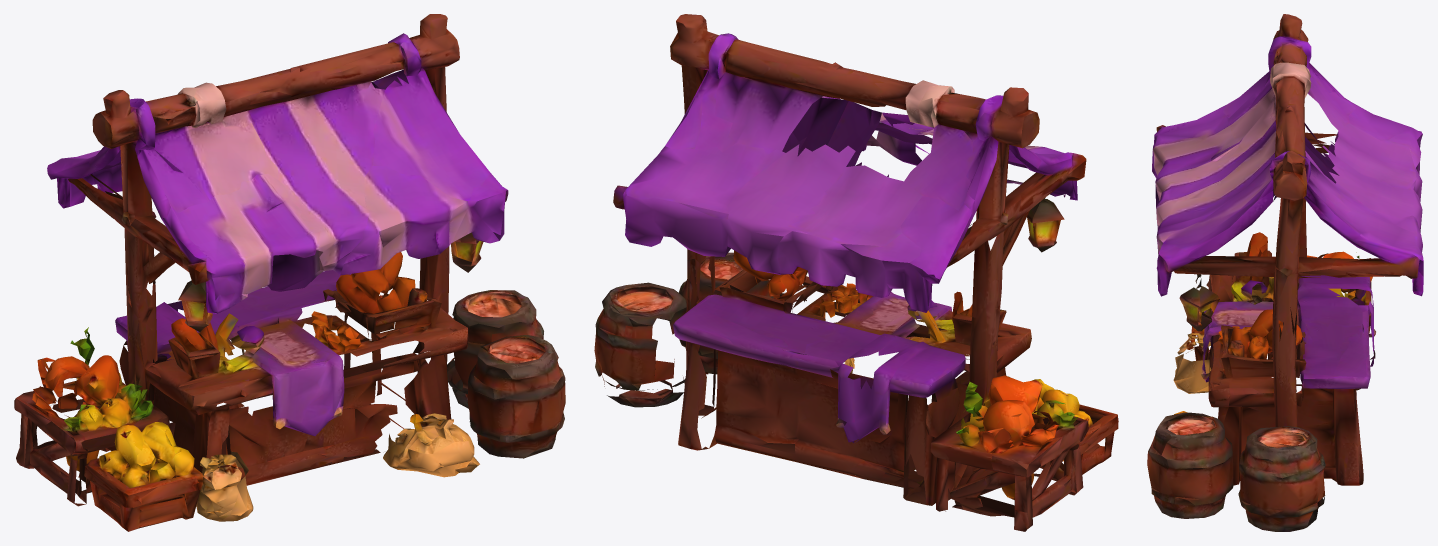
Rendered from tripo-mercado154.glb.
3 views of the same model, side by side, from view 1: azimuth 30°, elevation 25°; view 2: azimuth 150°, elevation 25°; view 3: azimuth 270°, elevation 25° (orthographic). The views are drawn at different scales.
Visible parts, largest first — view 1: tripo_node_086ec32c-22e1-48db-92b0-0279aad617cf; view 2: tripo_node_086ec32c-22e1-48db-92b0-0279aad617cf; view 3: tripo_node_086ec32c-22e1-48db-92b0-0279aad617cf.
Boxes of the visible parts, x1=… form: tripo_node_086ec32c-22e1-48db-92b0-0279aad617cf: x1=14, y1=14, x2=565, y2=531; tripo_node_086ec32c-22e1-48db-92b0-0279aad617cf: x1=594, y1=14, x2=1118, y2=531; tripo_node_086ec32c-22e1-48db-92b0-0279aad617cf: x1=1147, y1=14, x2=1423, y2=531.
Size of the model in its own units: 0.9779 by 0.7798 by 0.5622.
1 material, 1 textured.
